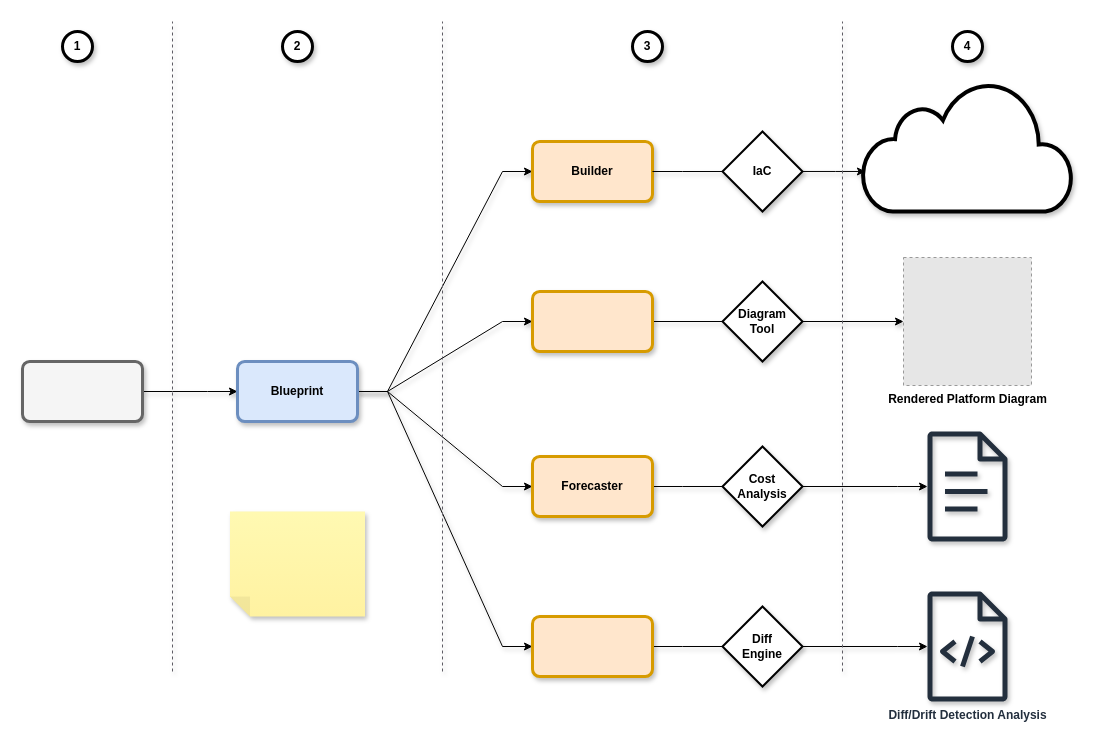
This 1098x740 diagram has some shape labels left out. Grey dashed boxes stand in for pictures. Each missing label, with the centre of its shape:
"Cloud Platform" goes at [968,147].
"Drift Detector" goes at [593,647].
"Forecasted Cost Report" goes at [968,487].
"KCL Helm Chart Cuelang Custom Script etc..." goes at [298,565].
"platform.yaml" goes at [83,393].
"Visualizer" goes at [593,323].
